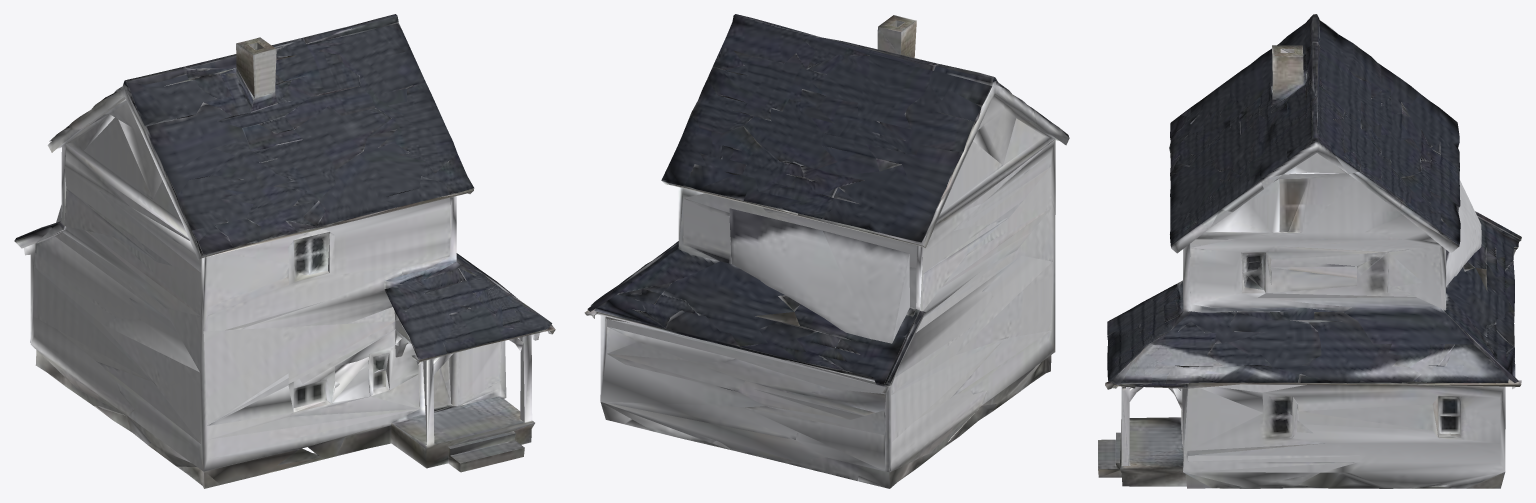
Rendered from farmhouse.glb.
3 renders of one model, left to right at view 1: azimuth 30°, elevation 25°; view 2: azimuth 150°, elevation 25°; view 3: azimuth 270°, elevation 25°, orthographic. The views are drawn at different scales.
Bounding box in the file's own units: 1.63 × 1.83 × 2.
Materials: 1 (1 with a texture image).
